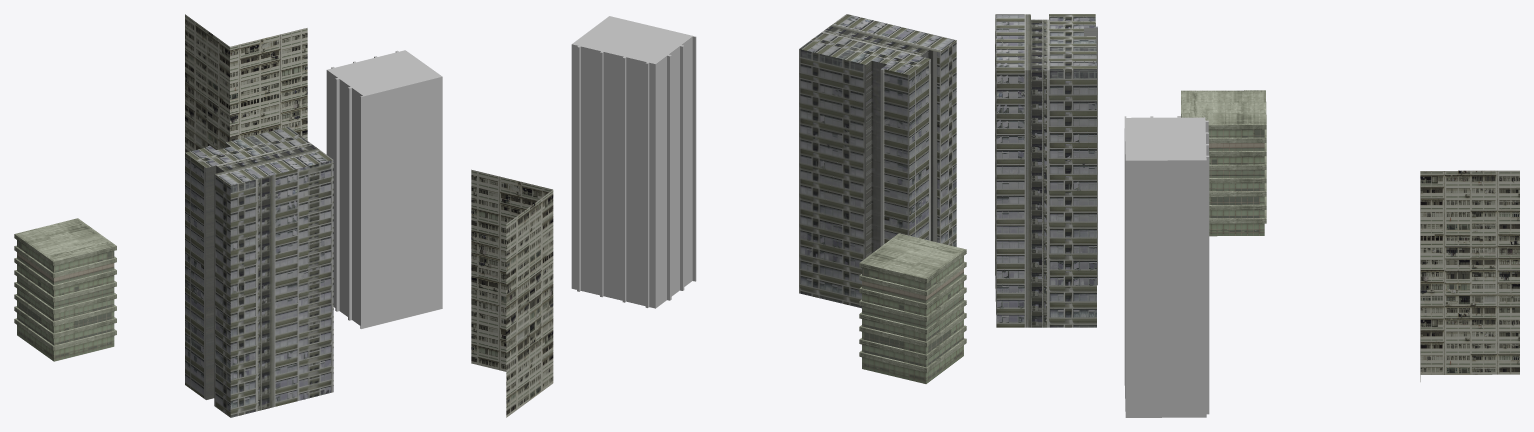
The picture shows the model from 3 angles, left to right: view 1: azimuth 30°, elevation 25°; view 2: azimuth 150°, elevation 25°; view 3: azimuth 270°, elevation 25°; orthographic projection. The views are drawn at different scales.
Visible parts, largest first — view 1: SM_HK_03_06; view 2: SM_HK_03_06; view 3: SM_HK_03_06.
Part boxes in pixels (<box>): SM_HK_03_06: <box>14,14,442,417</box>; SM_HK_03_06: <box>471,14,966,417</box>; SM_HK_03_06: <box>995,14,1519,417</box>.
Size of the model in its own units: 14454 by 8787 by 16245.
